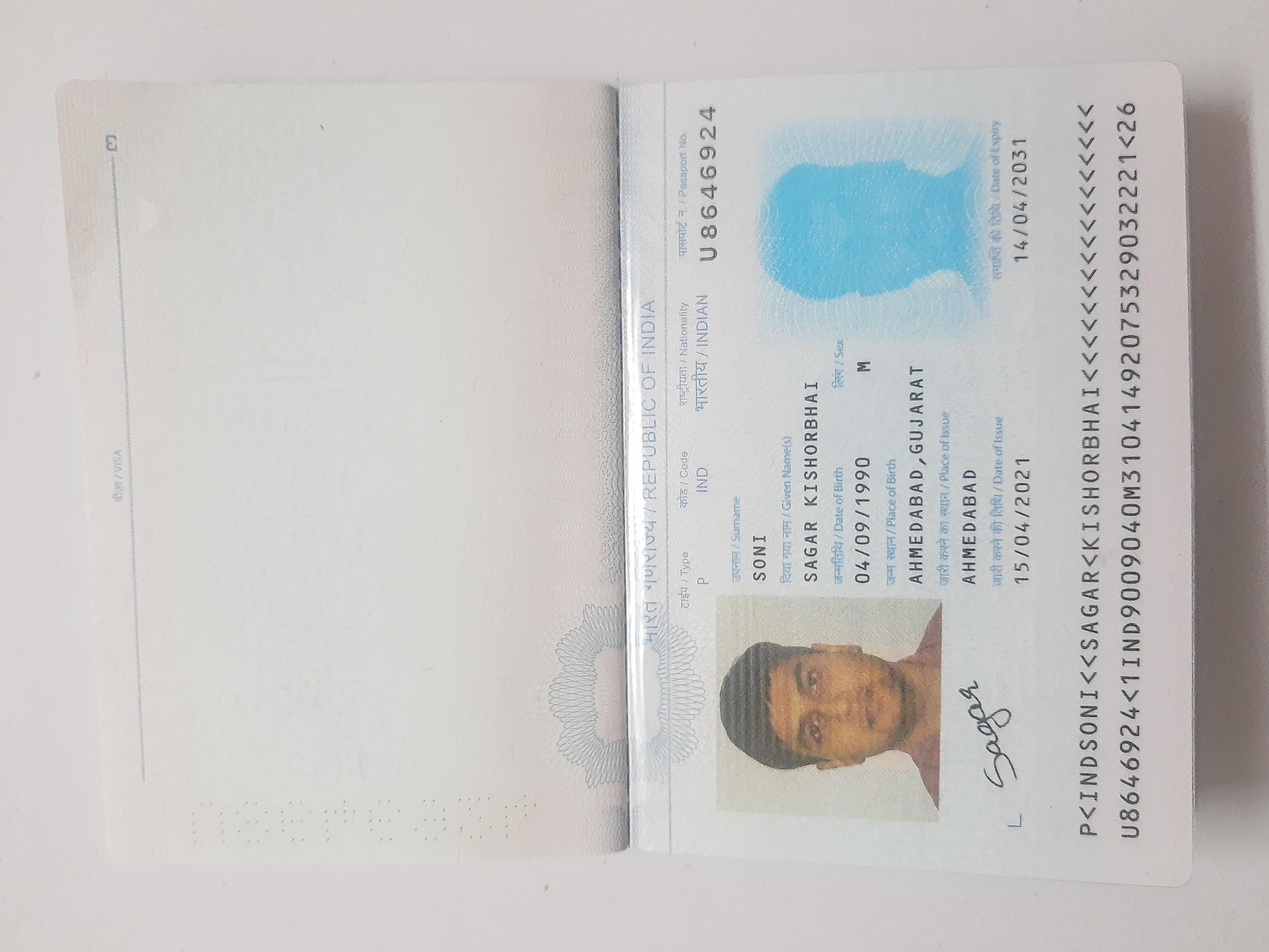DOB: (850, 447, 881, 590)
Surname: (747, 527, 775, 587)
country_code: (692, 462, 714, 505)
date_of_expiry: (1008, 127, 1038, 278)
date_of_issue: (1008, 440, 1038, 597)
details: (1065, 89, 1166, 849)
name: (794, 372, 829, 589)
nationality: (691, 288, 721, 413)
passport_no: (693, 97, 729, 271)
photo: (714, 593, 939, 815)
place_of_birth: (905, 362, 932, 589)
place_of_issue: (956, 462, 986, 591)
sex: (852, 353, 879, 384)
sign: (957, 662, 1028, 804)
type: (691, 567, 713, 596)
